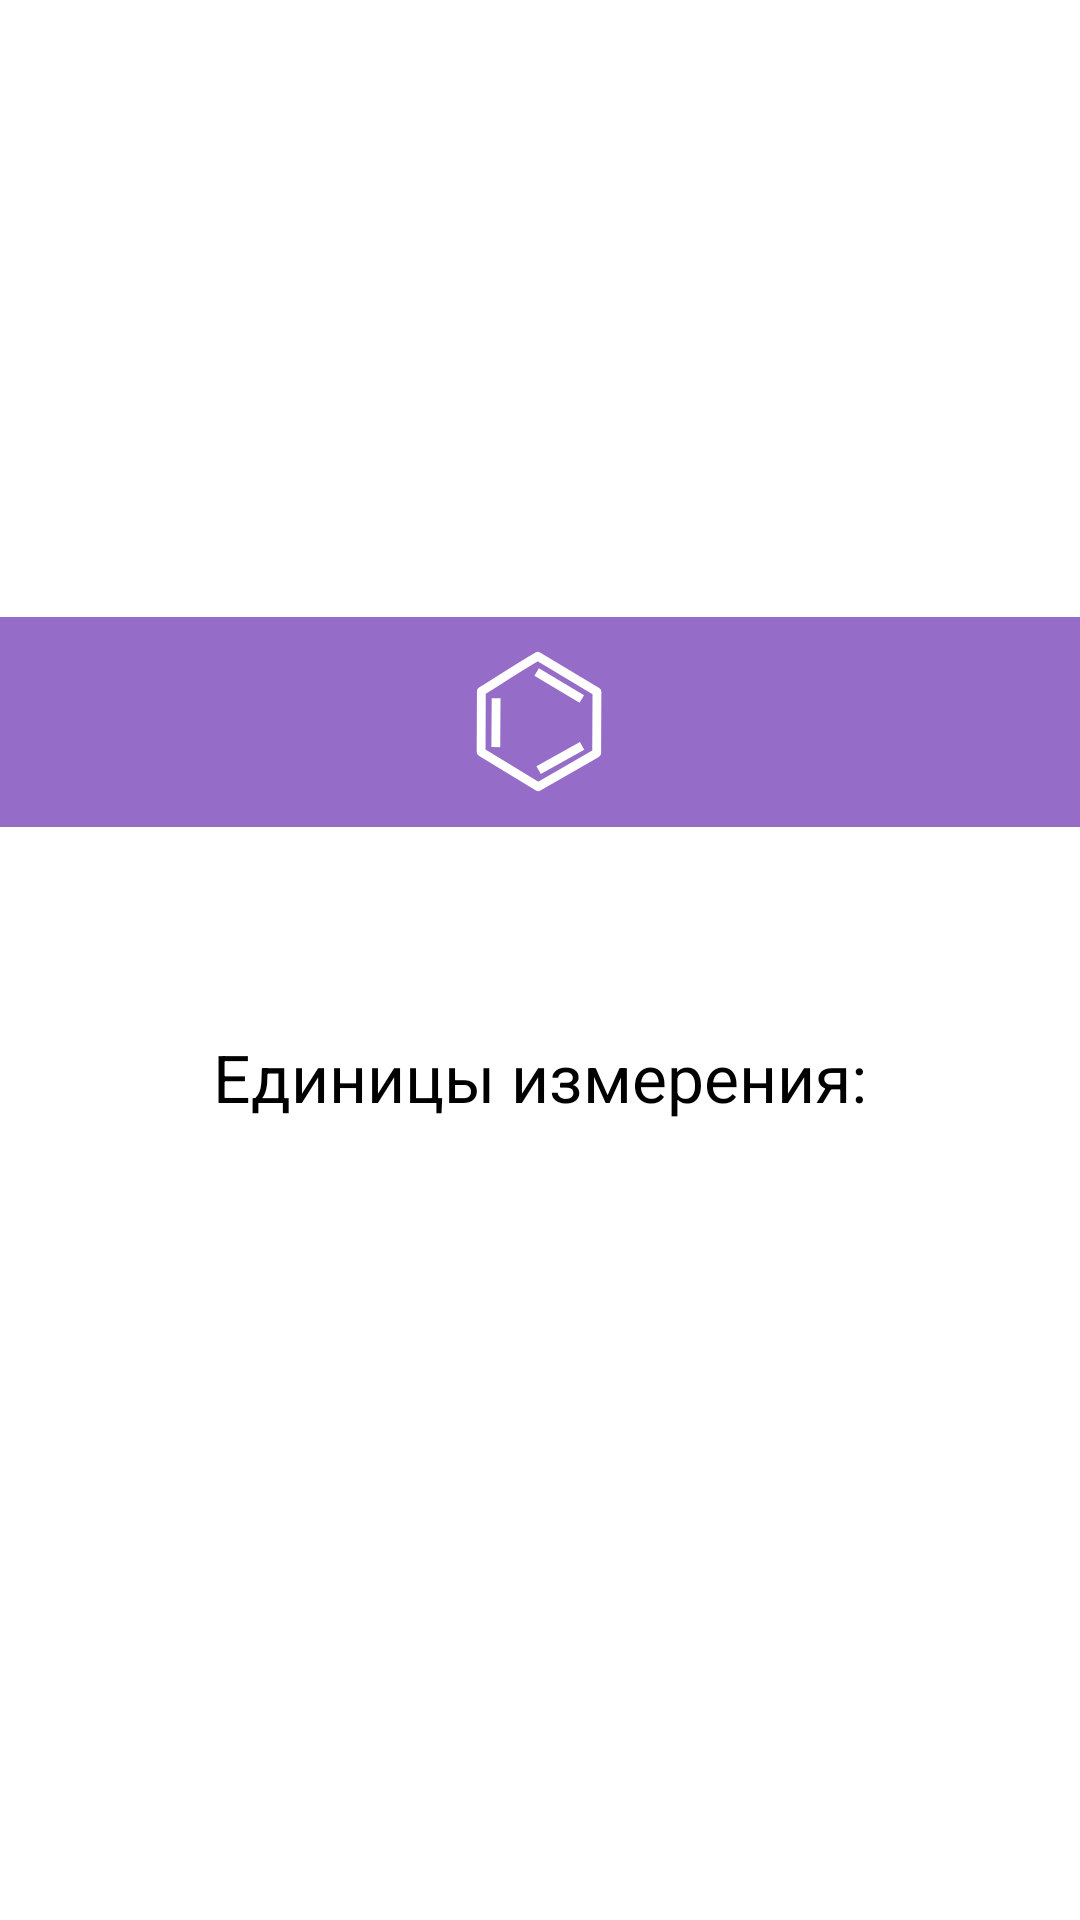

Icons on this 1080 × 1920 Android screen, each with the point to tap as (x=x, y=y):
bensol: (x=539, y=721)
